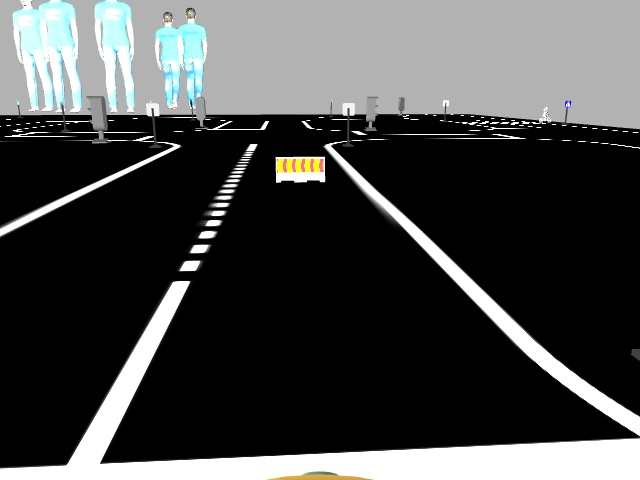ClosedRoadStand: (274, 157, 324, 182)
